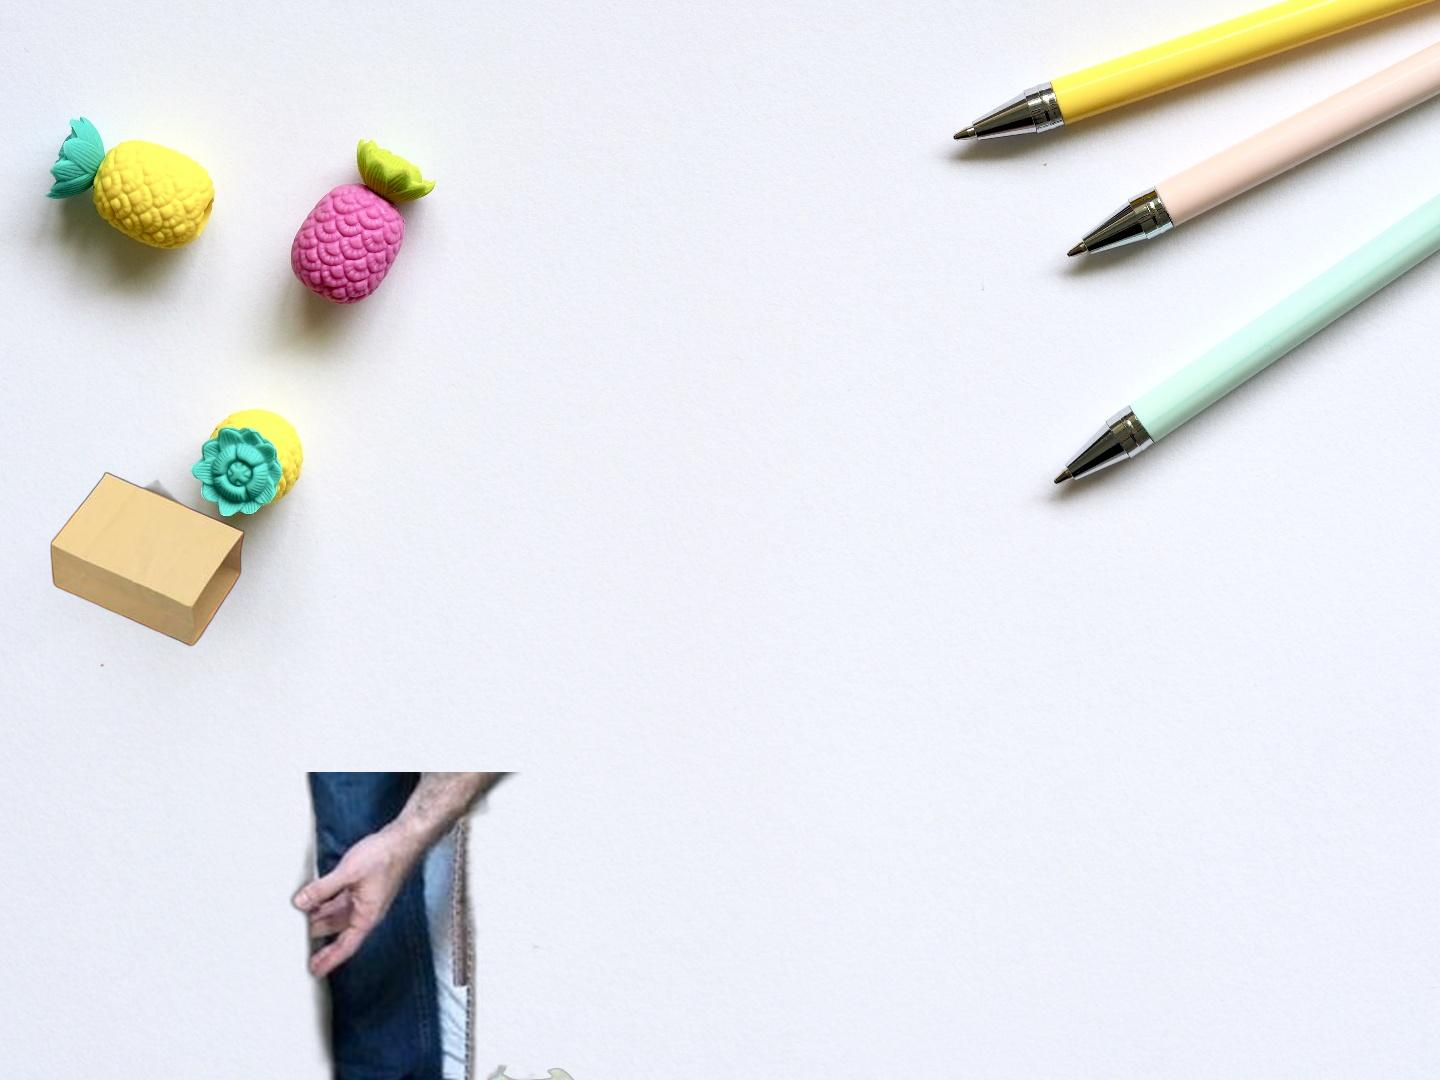paper-bag: (50, 469, 247, 700)
trash: (414, 1063, 637, 1080)
trashbox-cardboard: (282, 773, 527, 1080)
